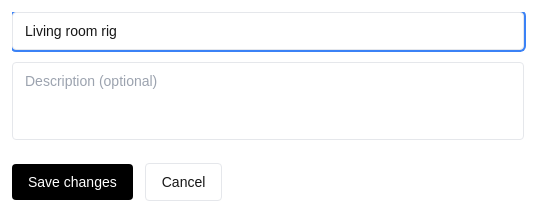
Test: EditSystemForm › Validation › disables "Save changes" when name is cleared
Clear the field with placeholder "System name" at (268, 31), box left=12, top=12, right=524, bottom=50
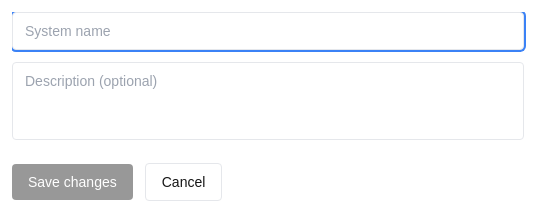
Result: the button "Save changes" is disabled at left=12, top=164, right=133, bottom=200
